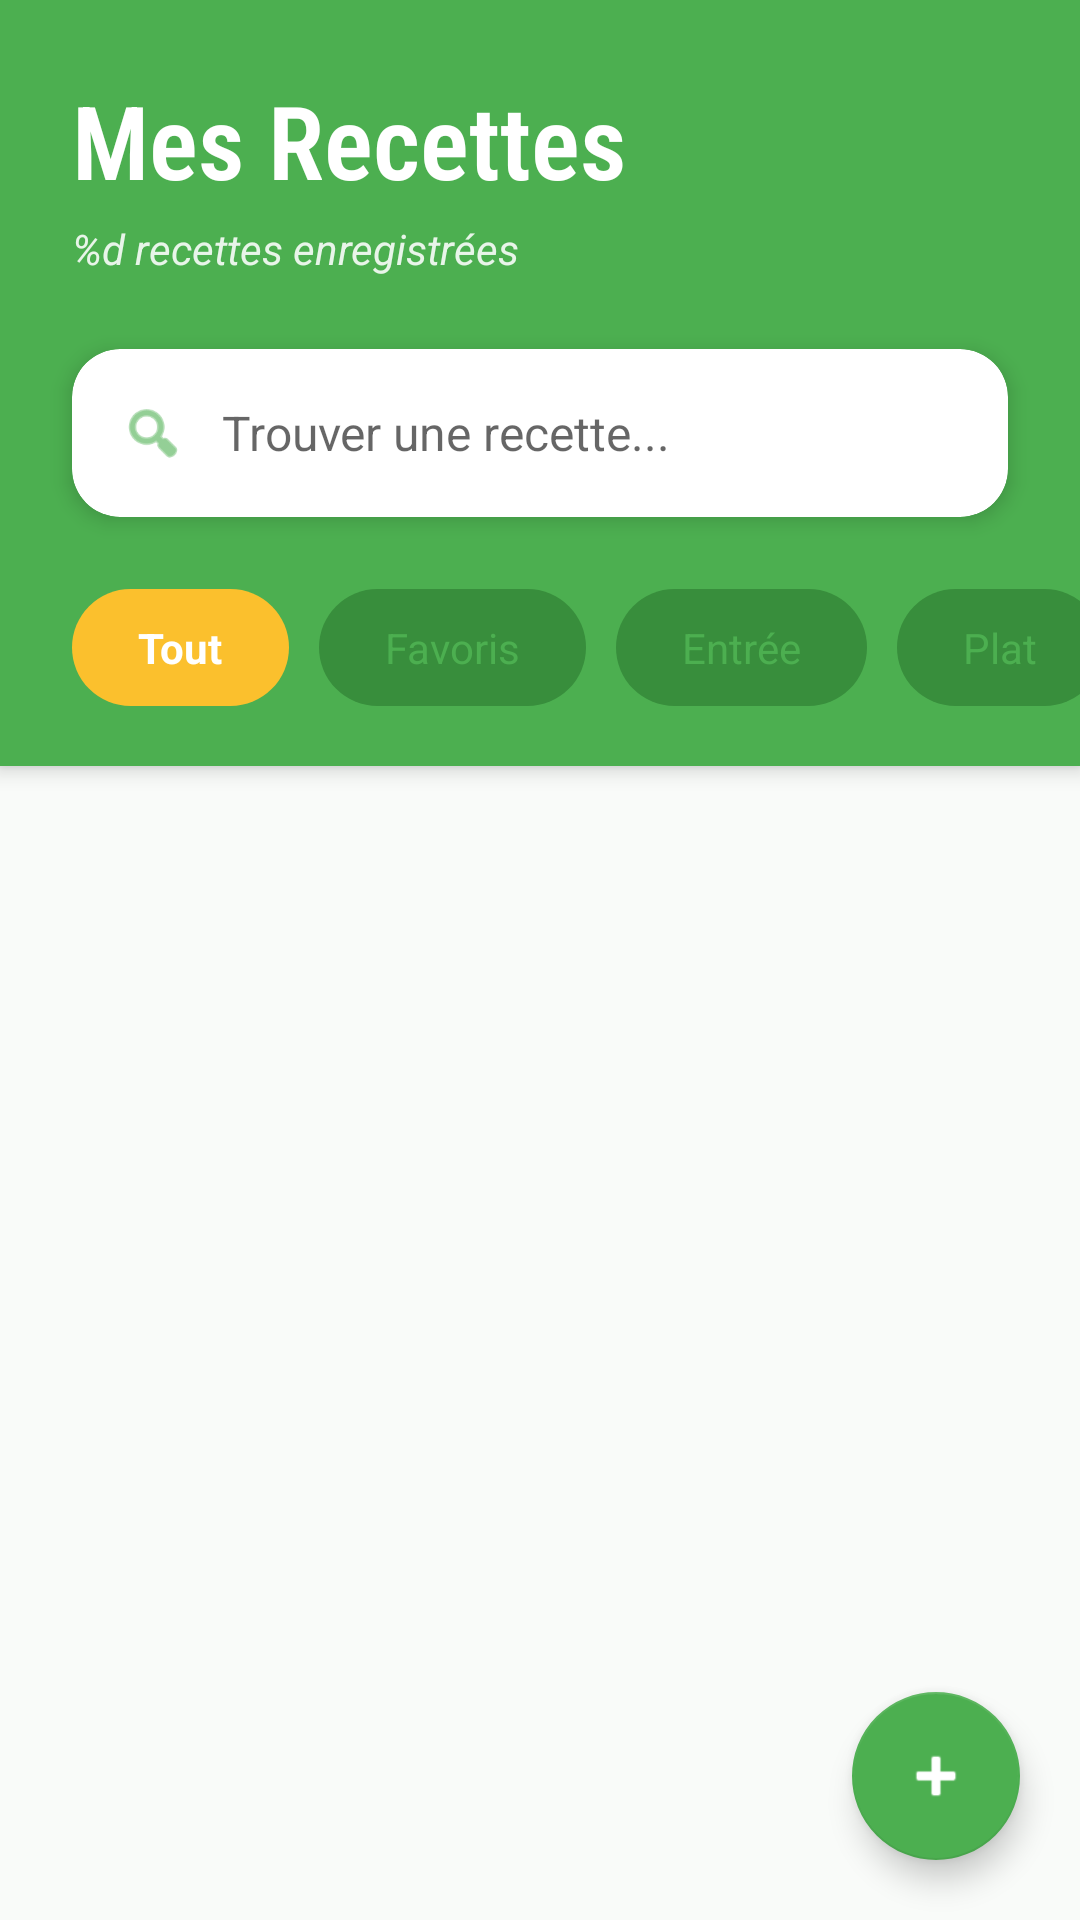

Icon click points for this 1080w x 1920h phone screenshot, format (x=x, y=y):
add: (x=936, y=1776)
search: (x=153, y=433)
